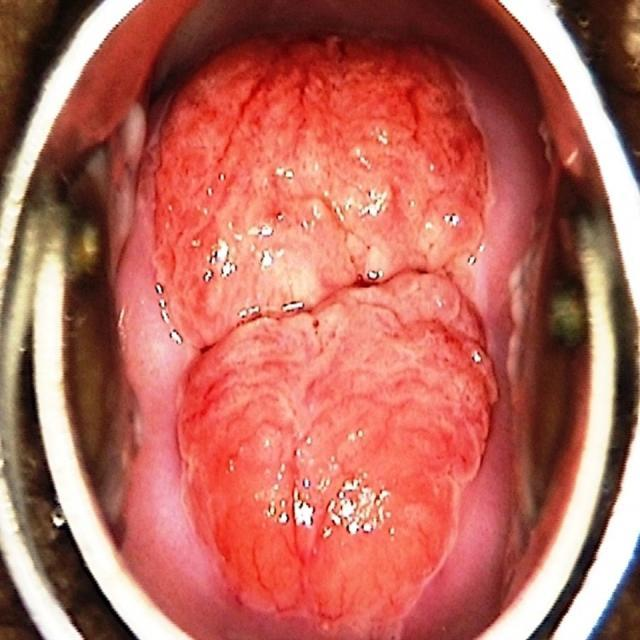cervical_lesion: (155, 43, 499, 628)
